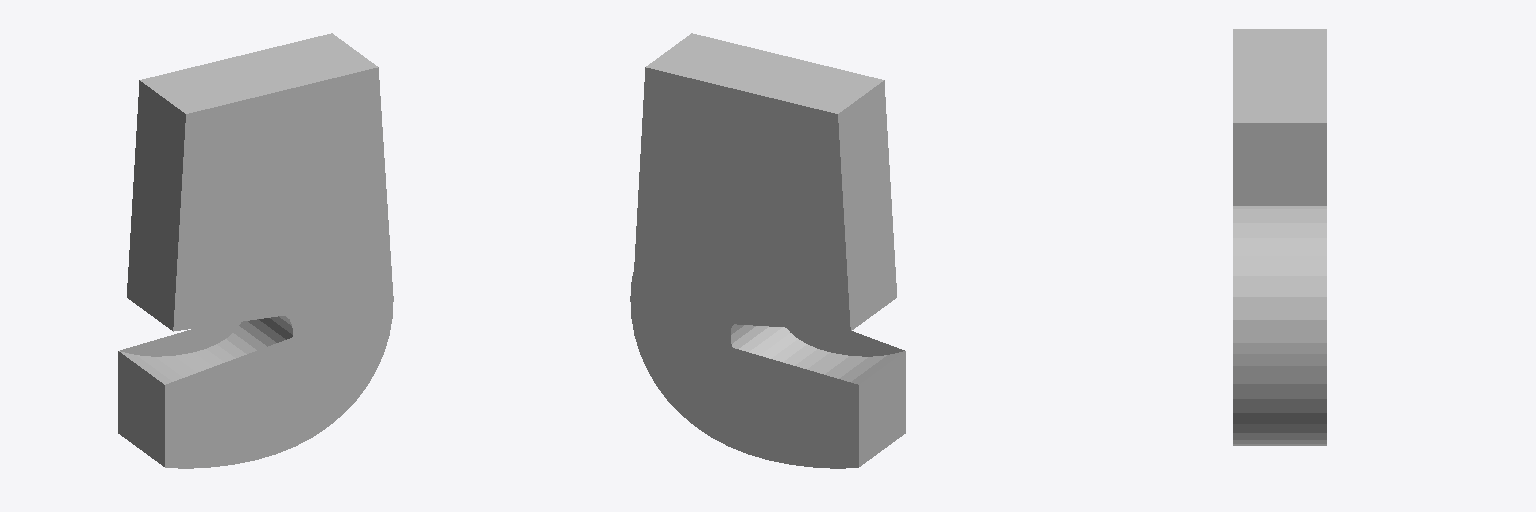
3 renders of one model, left to right at view 1: azimuth 30°, elevation 25°; view 2: azimuth 150°, elevation 25°; view 3: azimuth 270°, elevation 25°, orthographic.
Parts seen in each view (by area): view 1: typeMesh1; view 2: typeMesh1; view 3: typeMesh1.
Boxes of the visible parts, x1=… form: typeMesh1: x1=118, y1=33, x2=393, y2=468; typeMesh1: x1=630, y1=33, x2=905, y2=468; typeMesh1: x1=1233, y1=29, x2=1326, y2=445.
Bounding box in the file's own units: 7.1 × 10.76 × 2.5.